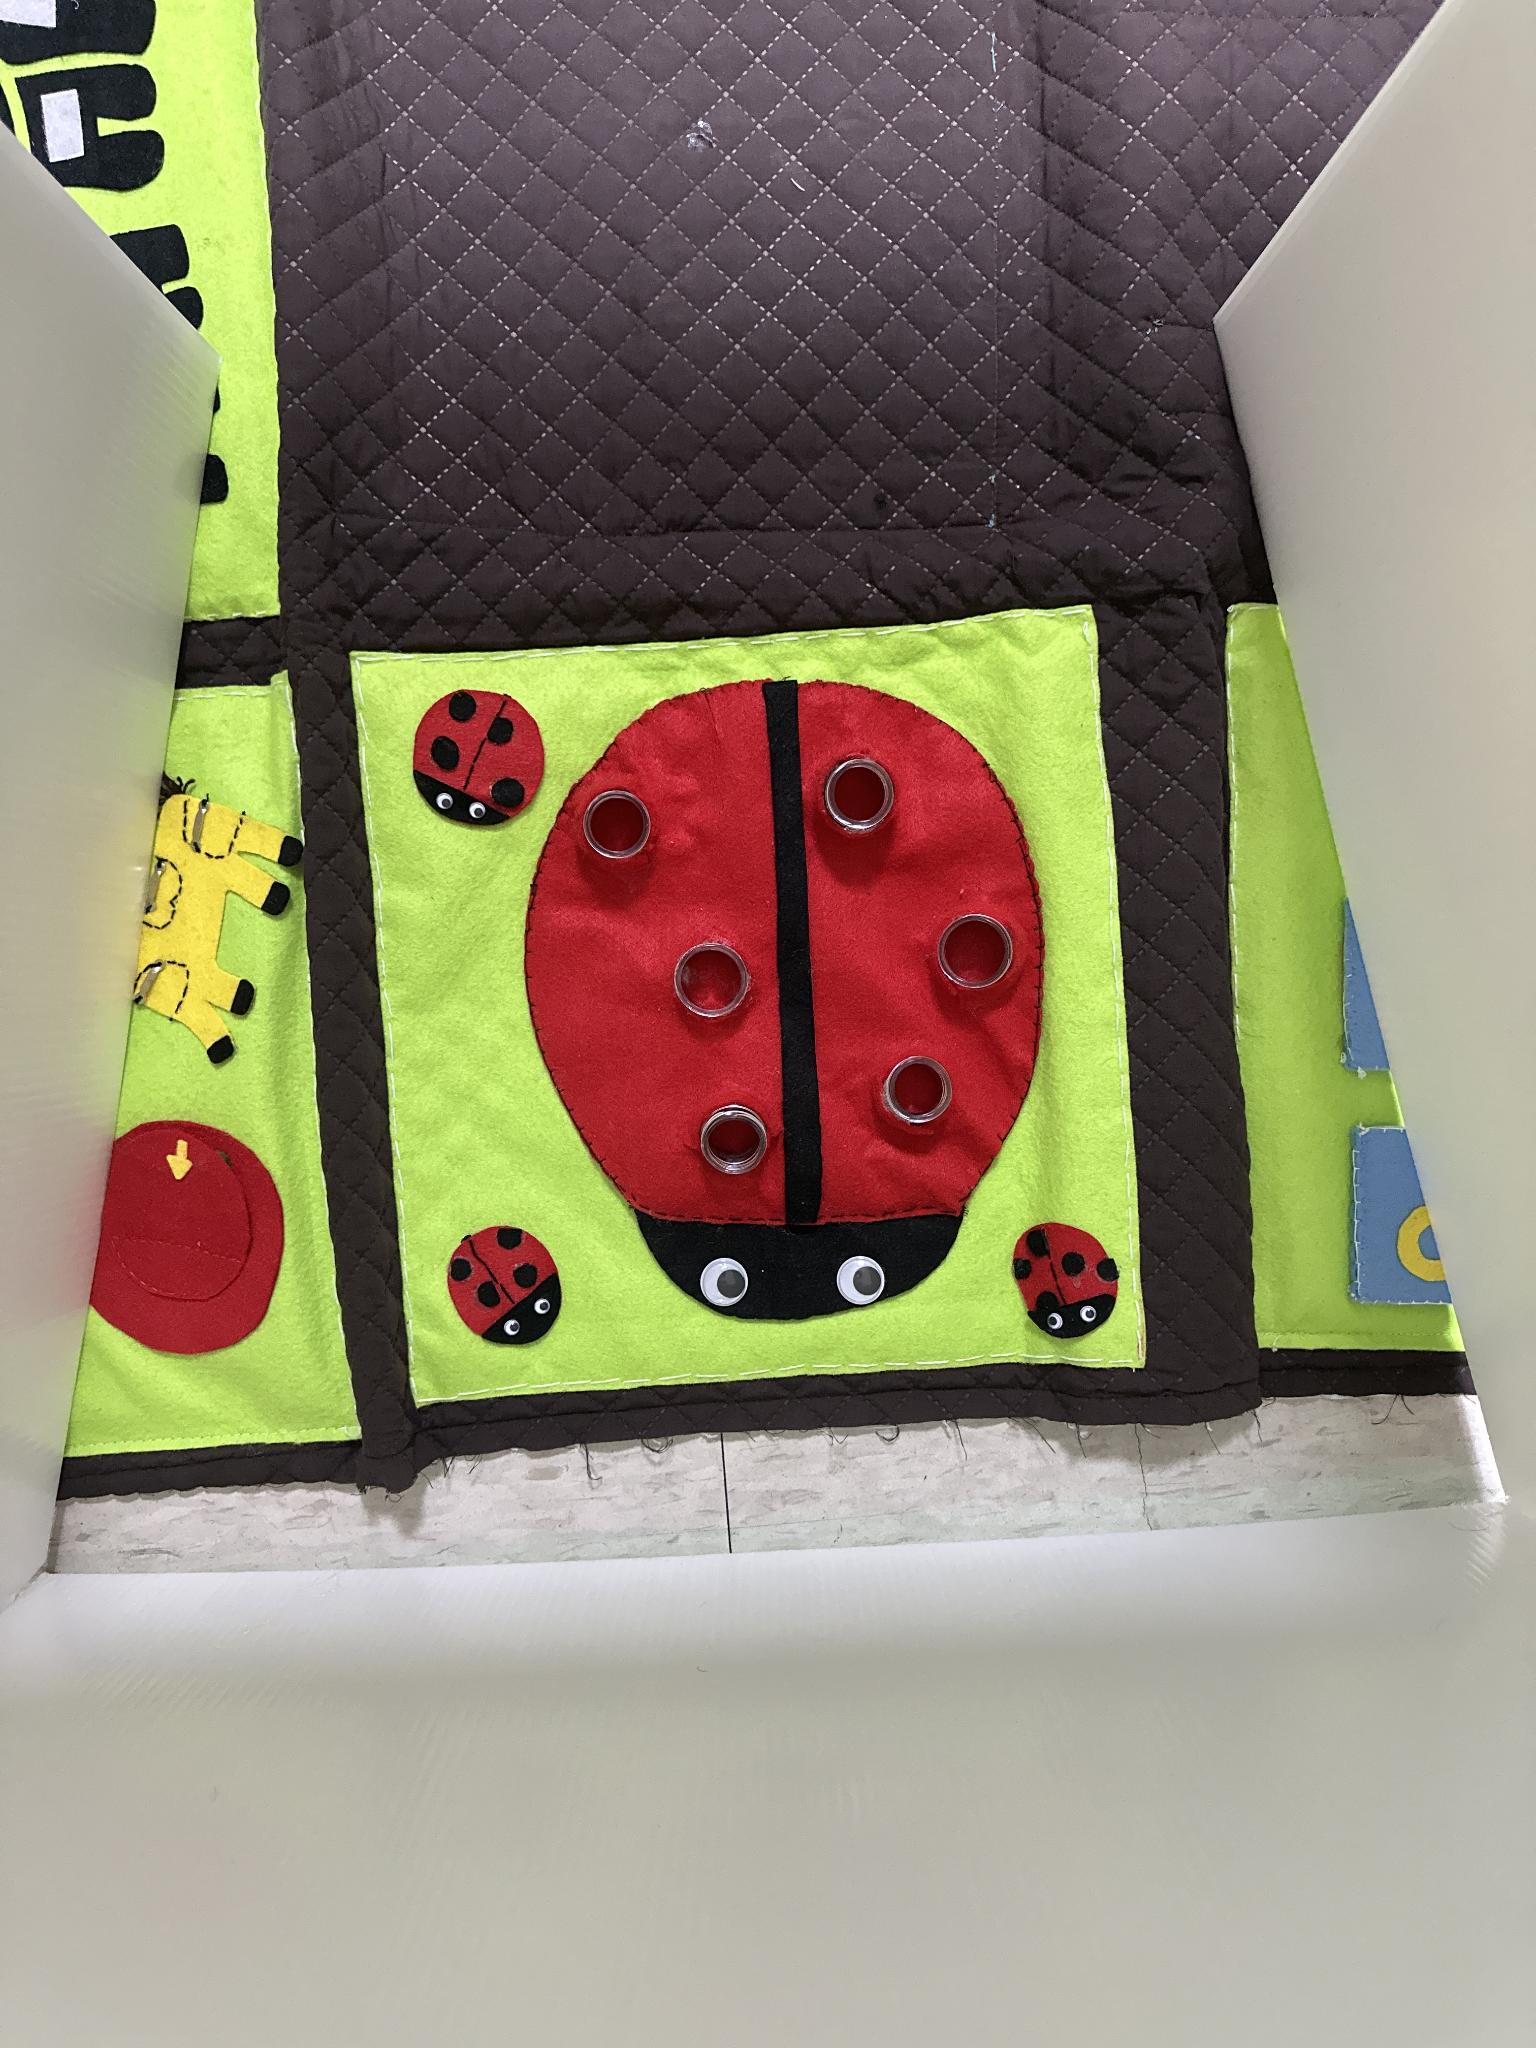hole: (923, 910, 1023, 1005), (578, 784, 662, 879), (826, 751, 912, 843), (663, 942, 749, 1030), (874, 1051, 947, 1138), (700, 1108, 768, 1188)
ladybug_case: (526, 682, 1033, 1321)
